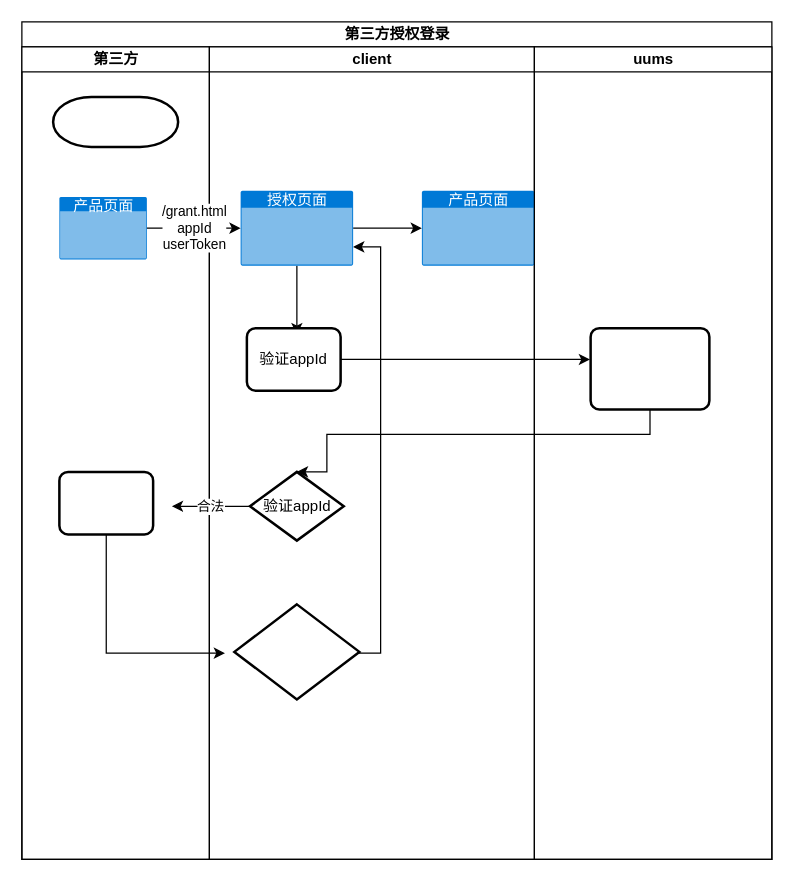
Image size: 794x881. Some labels were removed from this diagram. The shapes that lost their labels are listed below. From the top down, each one's centre as x and y in pixels, then its label:
At point 115,121: "开始".
At point 649,368: "验证appId 并获取url".
At point 106,502: "获取用户信息".
At point 296,651: "初始用户信息 自动登录".
